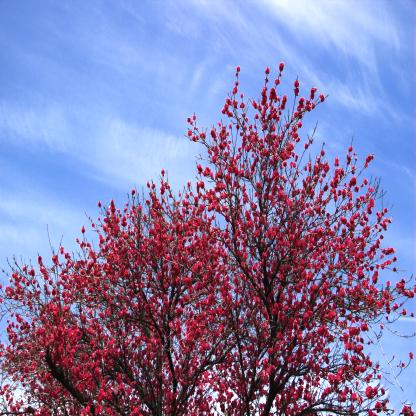Momo: (0, 59, 416, 416)
